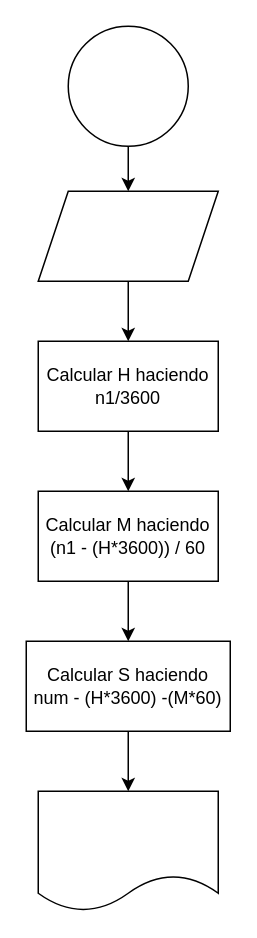
The diagram is 257 pixels wide and 938 high, and some of its shapes have lost their labels. The shapes that lost their labels are listed below. From the top down, each one's box as (x1, y1, x2, y2) in pixels, then its label:
(37, 190, 218, 281): Leer n1
(37, 790, 218, 911): Mostrar H M S
